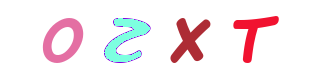O: (49, 0, 129, 80)
T: (178, 0, 258, 80)
X: (126, 0, 206, 80)
Z: (85, 0, 165, 80)
